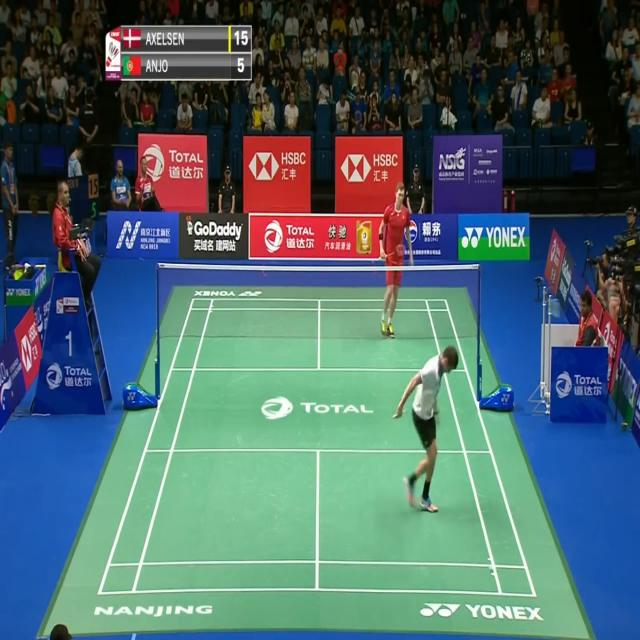Player1: (392, 343, 460, 521)
Player2: (376, 182, 417, 342)
